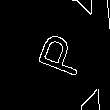P_W: (25, 29, 85, 81)
